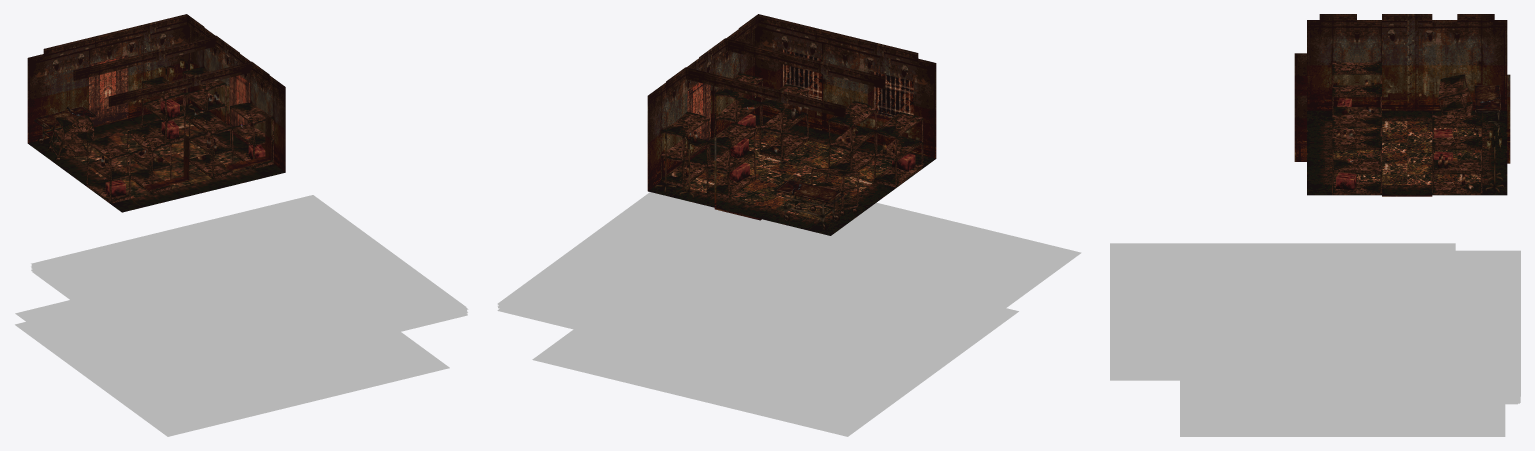
3 views of the same model, side by side, from view 1: azimuth 30°, elevation 25°; view 2: azimuth 150°, elevation 25°; view 3: azimuth 270°, elevation 25° (orthographic). The views are drawn at different scales.
Parts seen in each view (by area): view 1: BEAN1_HI#15_m0, JELLY_NE_m0, NL_BACK_m1, NL_BACK_m5, NL_BACK_m3, NL_BACK_m0, KEY_HIDE_m0, NL_m7, NL_m11, BEAN1_HI#14_m0, NL_m9, NL_m12 (+13 smaller); view 2: BEAN1_HI#15_m0, KEY_HIDE_m0, JELLY_NE_m0, NL_BACK_m5, NL_BACK_m4, NL_BACK_m0, NL_BACK_m3, NL_m7, NL_m4, NL_m11, NL_m9, NL_m12 (+11 smaller); view 3: BEAN1_HI#15_m0, NL_BACK_m2, JELLY_NE_m0, KEY_HIDE_m0, NL_BACK_m5, NL_m7, NL_m11, NL_m4, NL_BACK_m0, BEAN1_HI#14_m0, NL_m5, NL_m8 (+6 smaller).
Boxes of the visible parts, box(x1,y1,x2,y2) form: BEAN1_HI#15_m0: box(31, 123, 466, 375); JELLY_NE_m0: box(15, 136, 443, 432); NL_BACK_m1: box(27, 14, 191, 143); NL_BACK_m5: box(28, 103, 285, 212); NL_BACK_m3: box(187, 14, 285, 172); NL_BACK_m0: box(73, 36, 271, 190); KEY_HIDE_m0: box(15, 322, 449, 436); NL_m7: box(86, 102, 273, 179); NL_m11: box(49, 115, 171, 169); BEAN1_HI#14_m0: box(33, 125, 468, 378); NL_m9: box(189, 133, 233, 178); NL_m12: box(126, 148, 171, 193); BEAN1_HI#15_m0: box(497, 192, 984, 380); KEY_HIDE_m0: box(532, 308, 1018, 436); JELLY_NE_m0: box(747, 107, 1081, 385); NL_BACK_m5: box(648, 114, 935, 235); NL_BACK_m4: box(753, 14, 936, 158); NL_BACK_m0: box(685, 38, 913, 128); NL_BACK_m3: box(647, 14, 758, 190); NL_m7: box(714, 73, 923, 160); NL_m4: box(661, 111, 843, 204); NL_m11: box(810, 101, 877, 208); NL_m9: box(759, 108, 808, 159); NL_m12: box(828, 125, 877, 176); BEAN1_HI#15_m0: box(1195, 250, 1520, 396); NL_BACK_m2: box(1307, 14, 1507, 110); JELLY_NE_m0: box(1110, 158, 1455, 380); KEY_HIDE_m0: box(1180, 380, 1505, 436); NL_BACK_m5: box(1307, 110, 1507, 195); NL_m7: box(1332, 62, 1381, 171); NL_m11: box(1332, 74, 1472, 116); NL_m4: box(1432, 115, 1482, 170); NL_BACK_m0: box(1294, 53, 1306, 161); BEAN1_HI#14_m0: box(1191, 251, 1516, 397); NL_m5: box(1432, 159, 1482, 195); NL_m8: box(1332, 159, 1381, 195).
Bounding box in the file's own units: 12.88 × 10.21 × 13.14.
21 materials, 20 textured.
